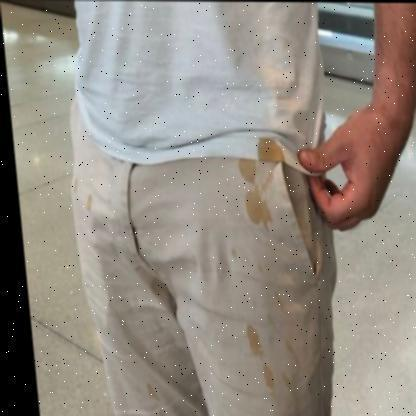coffee: (258, 137, 285, 162), (248, 194, 268, 223), (241, 158, 257, 183), (247, 329, 261, 354), (265, 368, 272, 387)
